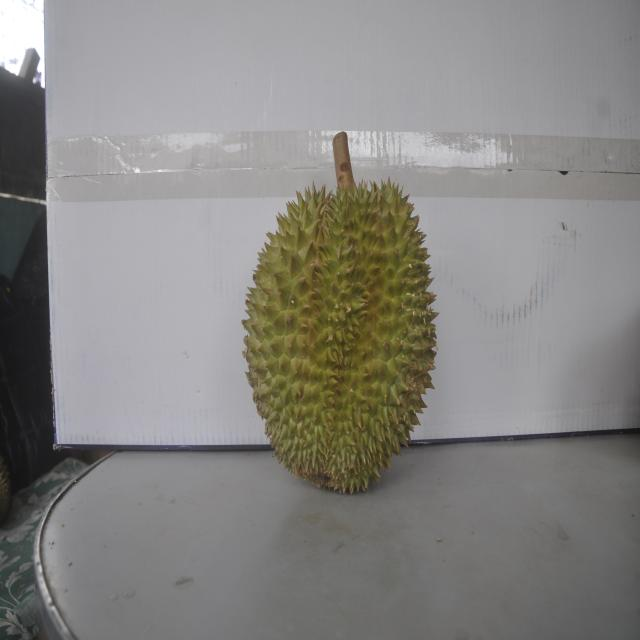mature: (242, 157, 434, 493)
